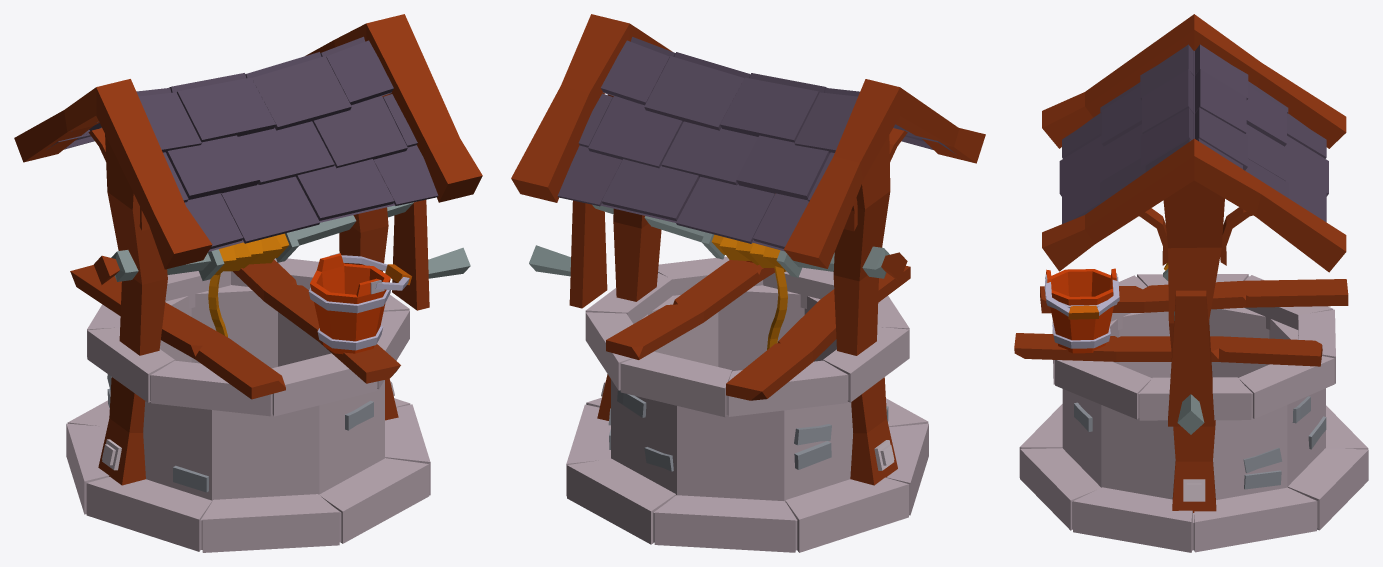
The model's file is fontaine-2.glb.
The picture shows the model from 3 angles, left to right: view 1: azimuth 30°, elevation 25°; view 2: azimuth 150°, elevation 25°; view 3: azimuth 270°, elevation 25°; orthographic projection. The views are drawn at different scales.
Parts seen in each view (by area): view 1: Cube, Cube.001; view 2: Cube; view 3: Cube, Cube.001.
Part boxes in pixels (x1,y1,x2,y2): Cube: [14, 14, 482, 552]; Cube.001: [308, 253, 411, 354]; Cube: [511, 14, 985, 552]; Cube: [1014, 14, 1368, 552]; Cube.001: [1044, 268, 1119, 353].
Bounding box in the file's own units: 5.61 × 6.09 × 4.93.
Materials: 1 (1 with a texture image).
